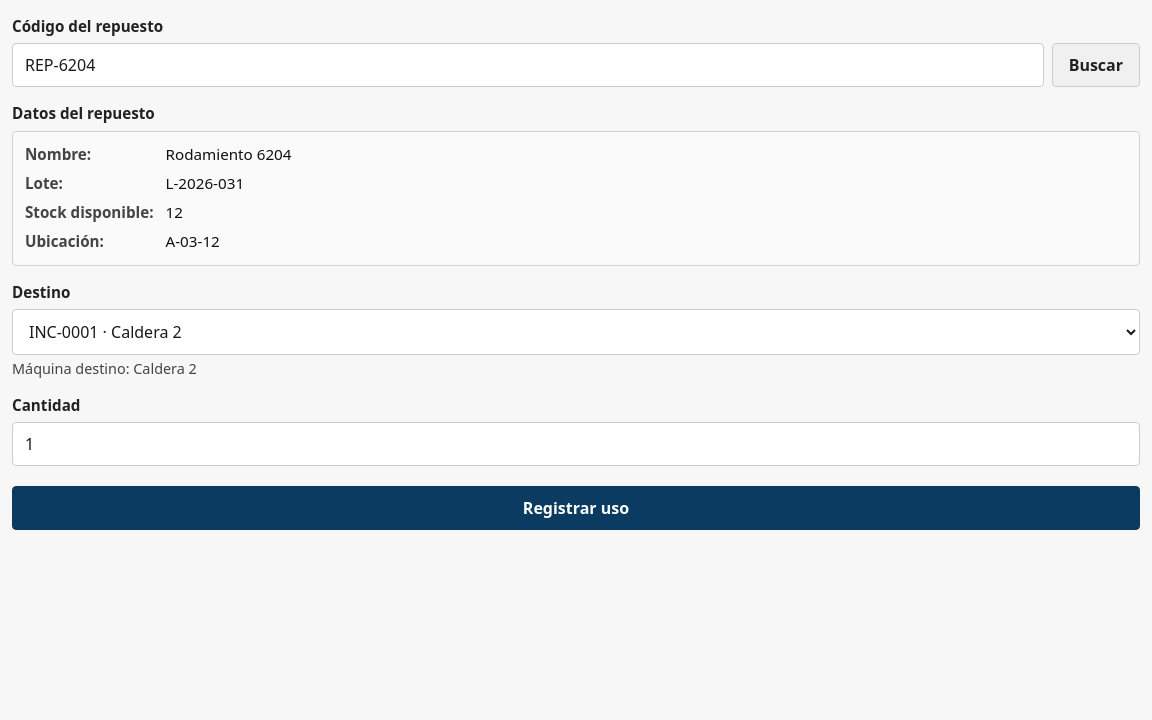
Test case: Registrar uso de repuesto › muestra el mensaje de la API cuando rechaza el uso por stock insuficiente (RN-01)
This screenshot has width=1152, height=720.
expect the text "Rodamiento 6204" is shown: met, box [166,144,291,164]
Replace the text in the number field labelled "Cantidad" with "20". click: (576, 444)
box: [12,422,1140,466]
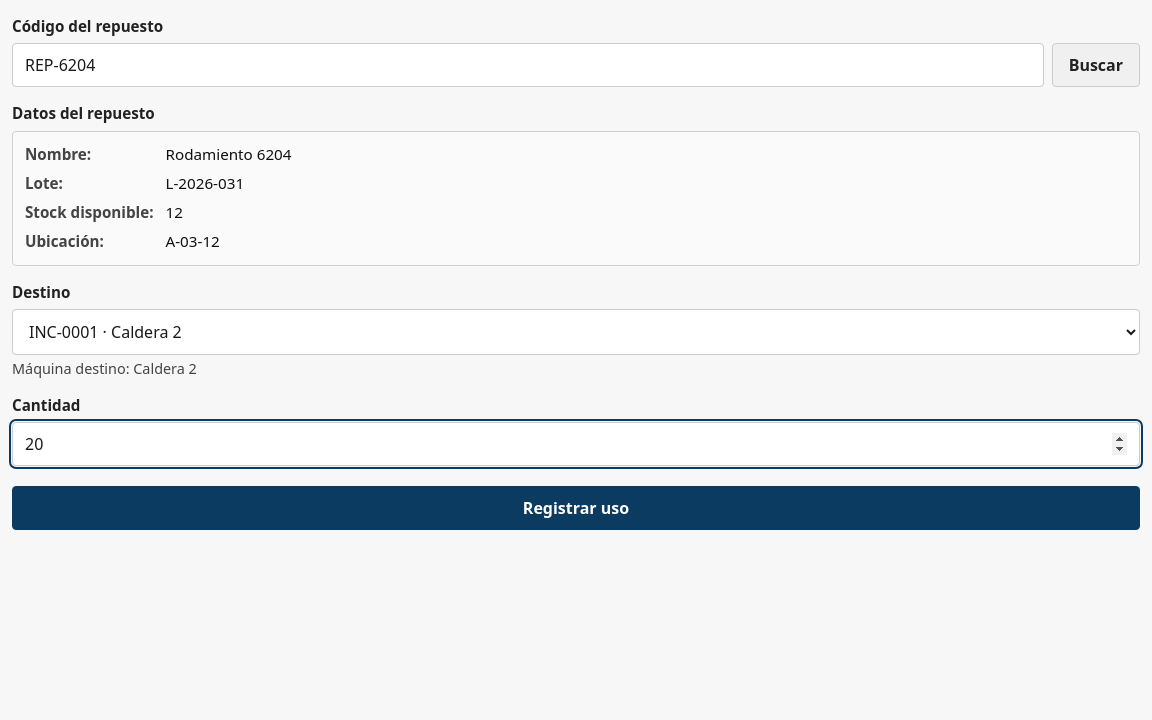
Click the button "Registrar uso". click: (576, 508)
box: [12,486,1140,530]
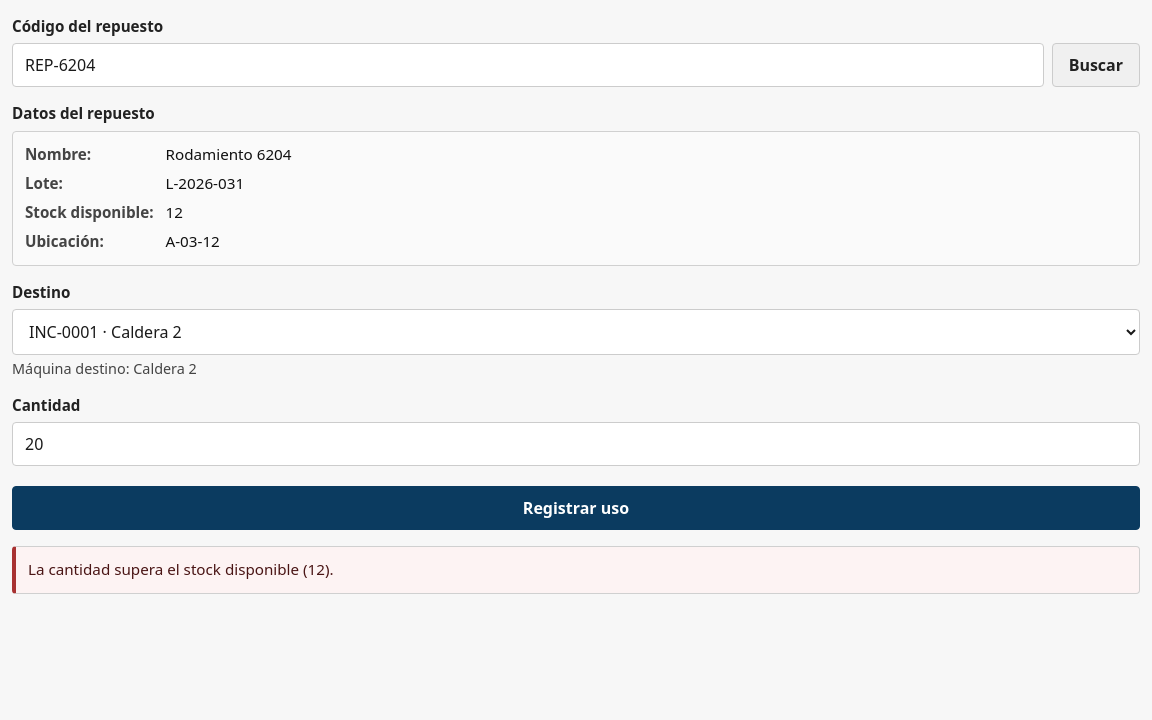
expect the message reads "La cantidad supera el stock disponible (12).": met, box [28,559,334,579]
